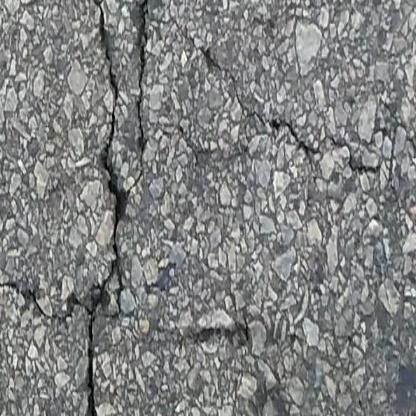Cracks: (137, 3, 416, 184), (73, 0, 192, 281), (47, 280, 139, 416), (0, 237, 88, 327)
